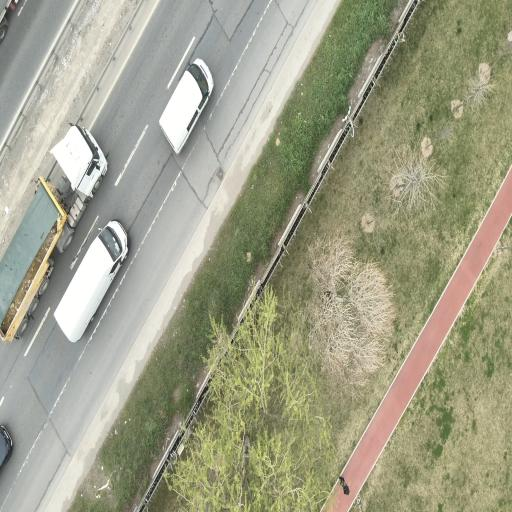car: (160, 59, 213, 154), (0, 426, 12, 469)
person: (343, 484, 349, 495), (339, 476, 345, 486)
truck: (0, 125, 107, 341), (0, 0, 18, 42)
